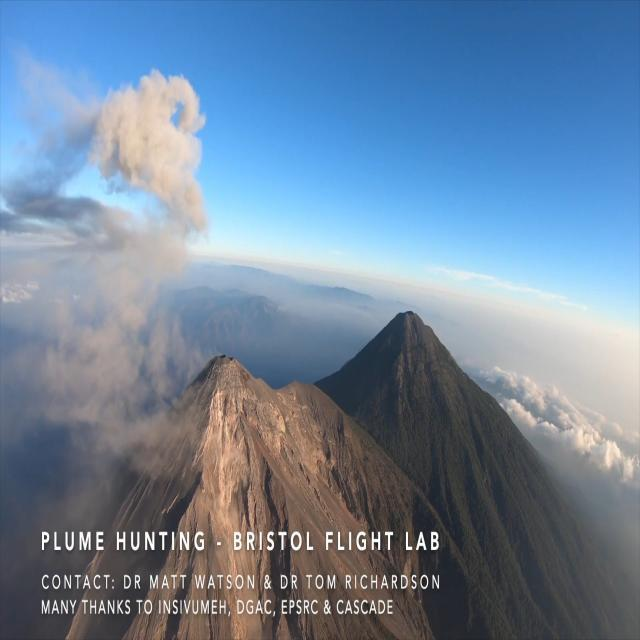Plume: (89, 64, 209, 234)
Summit: (137, 346, 331, 523)
